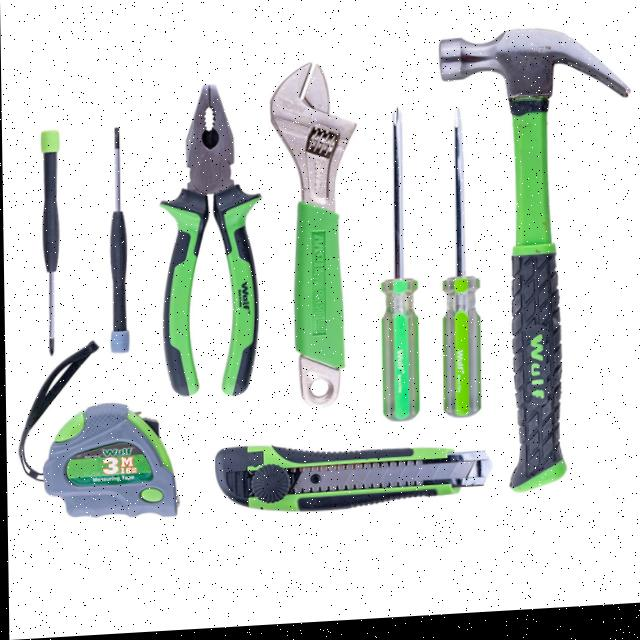Screwdriver: (380, 114, 418, 426), (442, 115, 480, 422), (40, 131, 59, 355), (109, 130, 128, 354)
